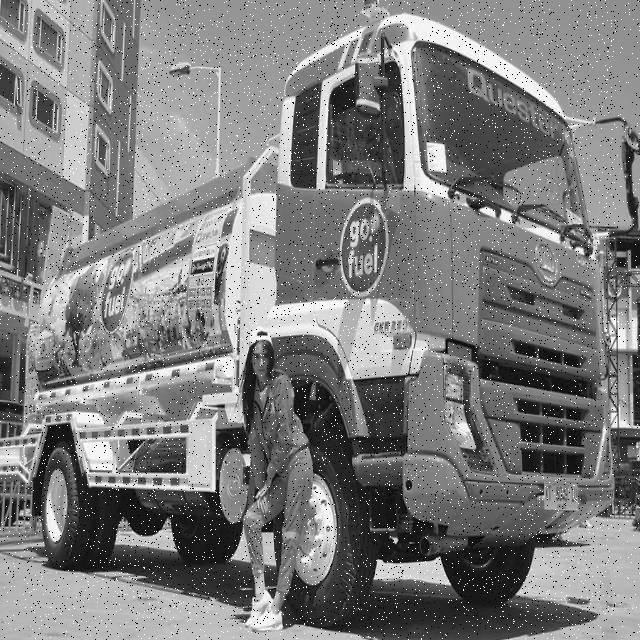Truck- 2-Axle: (30, 0, 616, 629)
